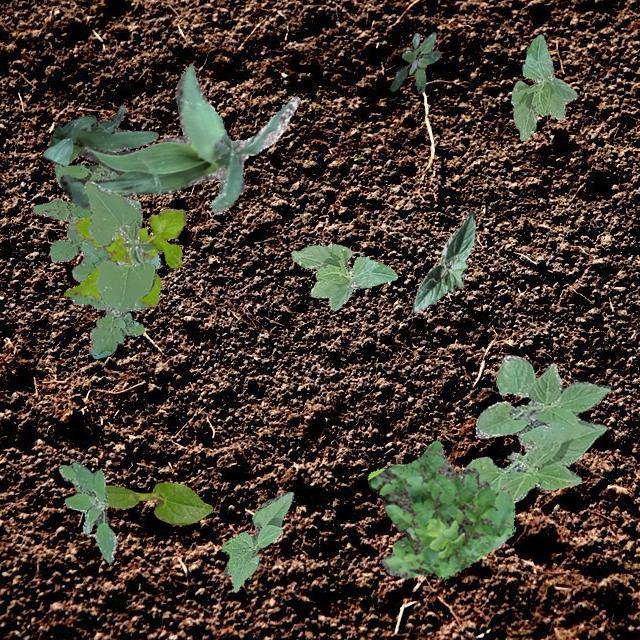crop: (58, 63, 300, 214), (464, 354, 610, 502), (84, 178, 156, 316), (41, 104, 158, 166), (290, 242, 396, 310), (220, 490, 292, 590), (509, 34, 576, 140), (412, 210, 474, 312), (104, 482, 212, 524)
weed: (32, 162, 160, 358), (366, 439, 514, 578), (64, 208, 184, 306), (58, 460, 116, 562), (390, 32, 440, 92)
